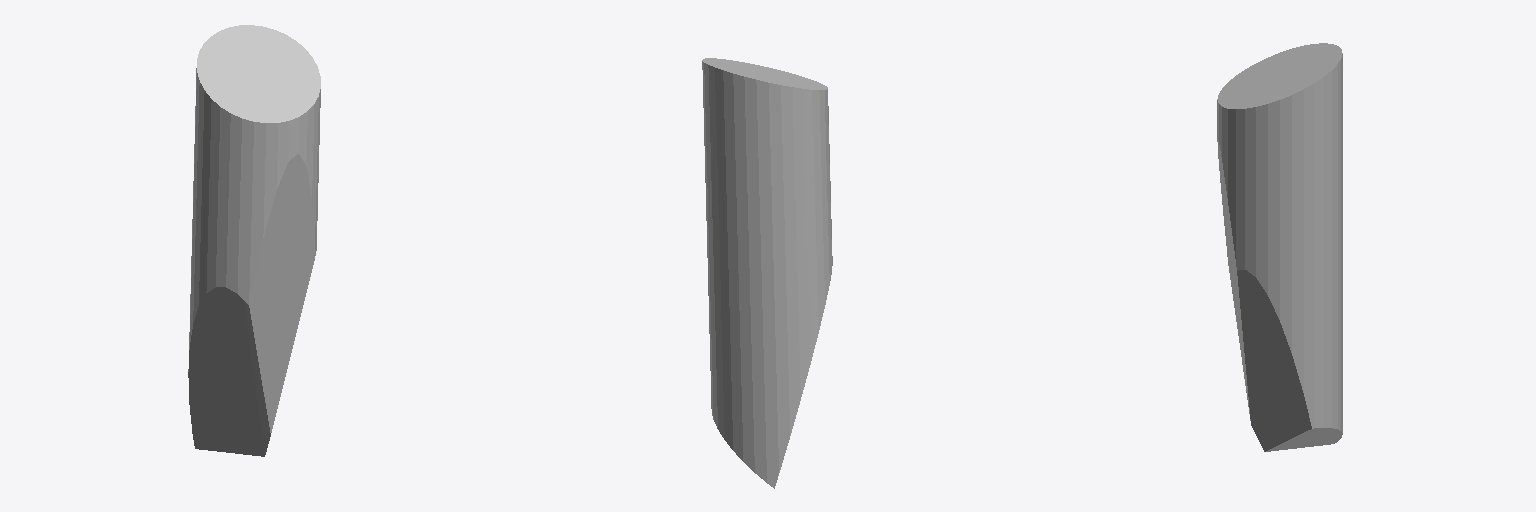
The model's file is torii_broken_049.obj.
The picture shows the model from 3 angles: view 1: azimuth 30°, elevation 25°; view 2: azimuth 150°, elevation 25°; view 3: azimuth 270°, elevation 25°; orthographic projection.
Parts seen in each view (by area): view 1: 鳥居.001_cell.053_鳥居.001_cell.031; view 2: 鳥居.001_cell.053_鳥居.001_cell.031; view 3: 鳥居.001_cell.053_鳥居.001_cell.031.
Part boxes in pixels (bbox=[...]): 鳥居.001_cell.053_鳥居.001_cell.031: bbox=[188, 25, 320, 456]; 鳥居.001_cell.053_鳥居.001_cell.031: bbox=[702, 58, 832, 488]; 鳥居.001_cell.053_鳥居.001_cell.031: bbox=[1217, 43, 1342, 451].
Size of the model in its own units: 0.3365 by 1.15 by 0.3192.